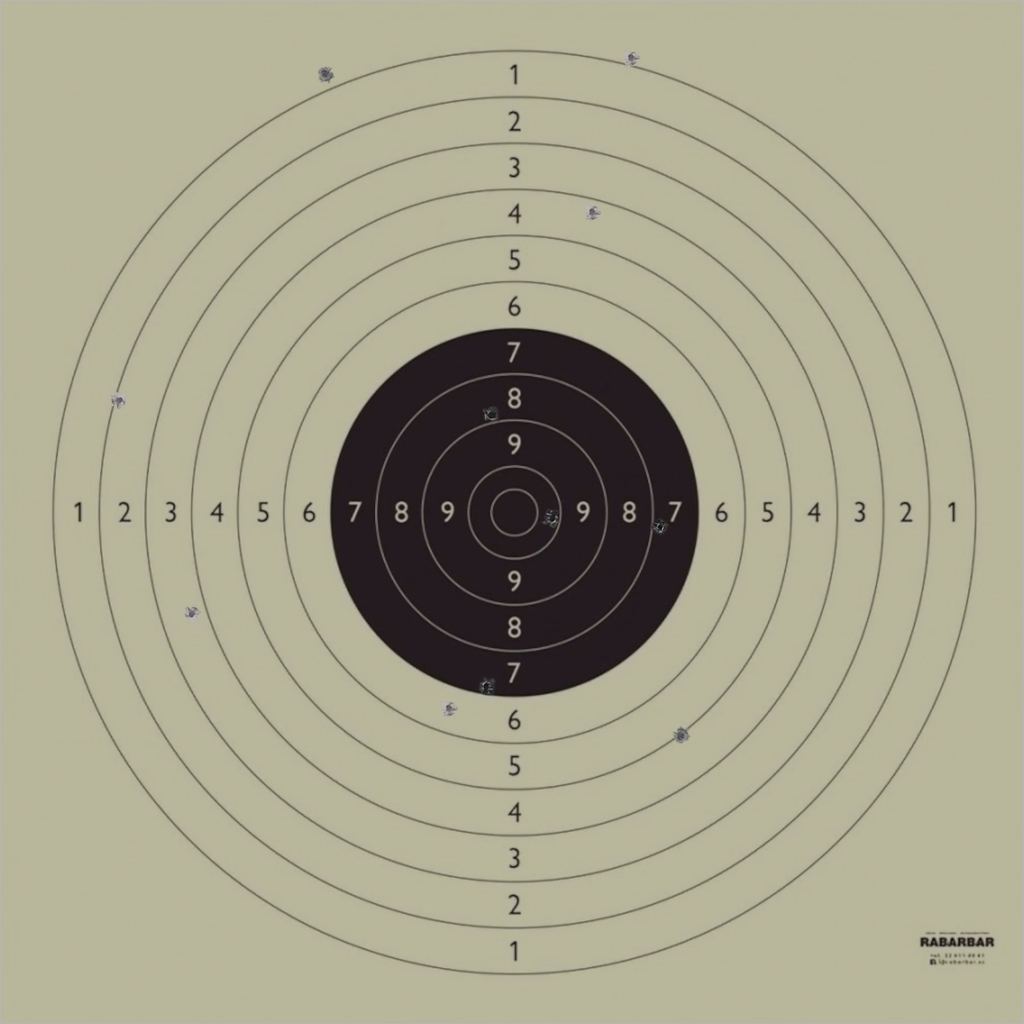0 punktow: (316, 65, 335, 83)
1 punkt: (622, 48, 641, 67)
10 punktow: (543, 509, 561, 527)
2 punkty: (110, 391, 128, 410)
3 punkty: (183, 605, 201, 623)
4 punkty: (583, 203, 602, 221)
5 punktow: (672, 727, 690, 745)
6 punktow: (440, 699, 458, 717)
7 punktow: (477, 677, 496, 695)
8 punktow: (651, 518, 669, 537)
9 punktow: (482, 406, 501, 424)
